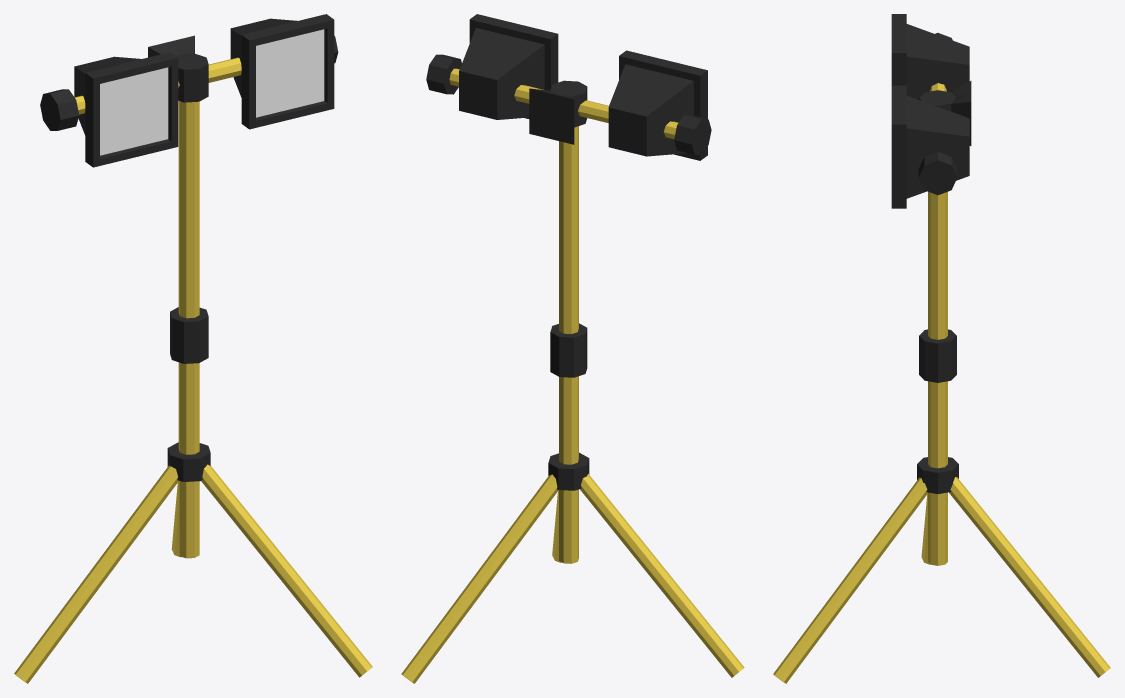
File: SM_Lamp_B.fbx
3 renders of one model, left to right at view 1: azimuth 30°, elevation 25°; view 2: azimuth 150°, elevation 25°; view 3: azimuth 270°, elevation 25°, orthographic. The views are drawn at different scales.
Parts seen in each view (by area): view 1: SM_Lamp_B, SM_Lamps_L, SM_Lamps_R; view 2: SM_Lamp_B, SM_Lamps_R, SM_Lamps_L; view 3: SM_Lamp_B, SM_Lamps_R, SM_Lamps_L.
Boxes of the visible parts, <box> form: SM_Lamp_B: <box>14,35,372,683</box>; SM_Lamps_L: <box>74,52,178,167</box>; SM_Lamps_R: <box>230,14,334,129</box>; SM_Lamp_B: <box>401,54,744,683</box>; SM_Lamps_R: <box>459,14,558,119</box>; SM_Lamps_L: <box>608,50,707,160</box>; SM_Lamp_B: <box>773,33,1110,683</box>; SM_Lamps_R: <box>891,85,969,208</box>; SM_Lamps_L: <box>891,14,969,99</box>.
Bounding box in the file's own units: 1.37 × 2.51 × 1.34.
